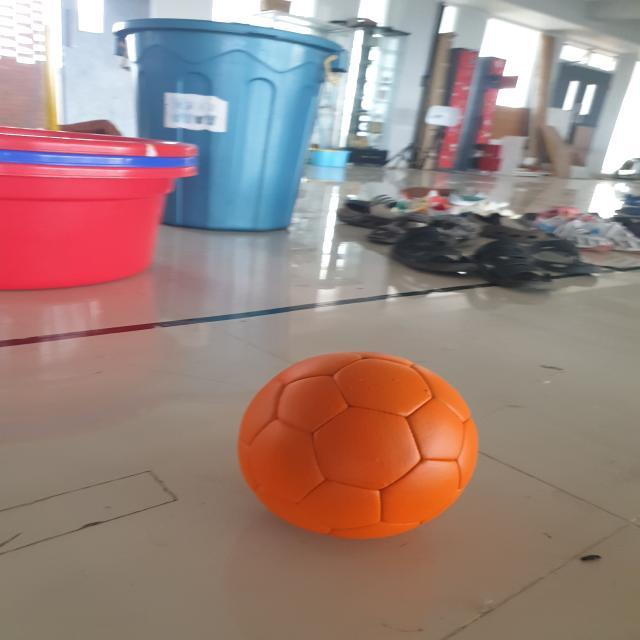bola: (222, 346, 490, 550)
